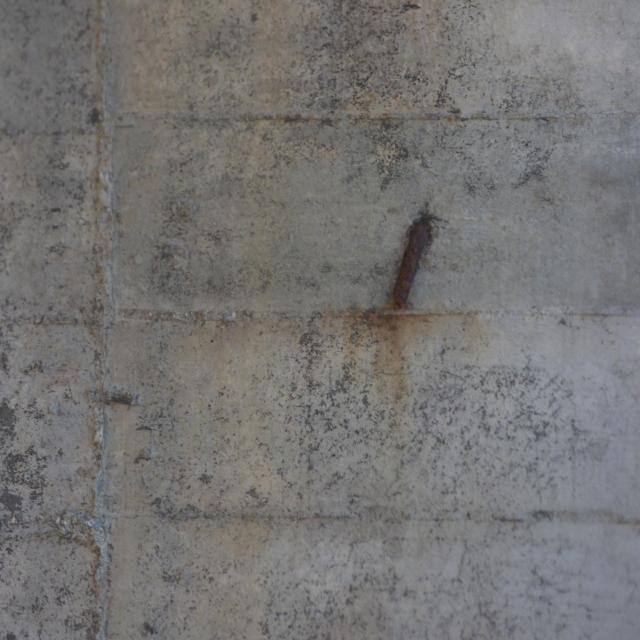corrosion: (334, 200, 480, 402)
